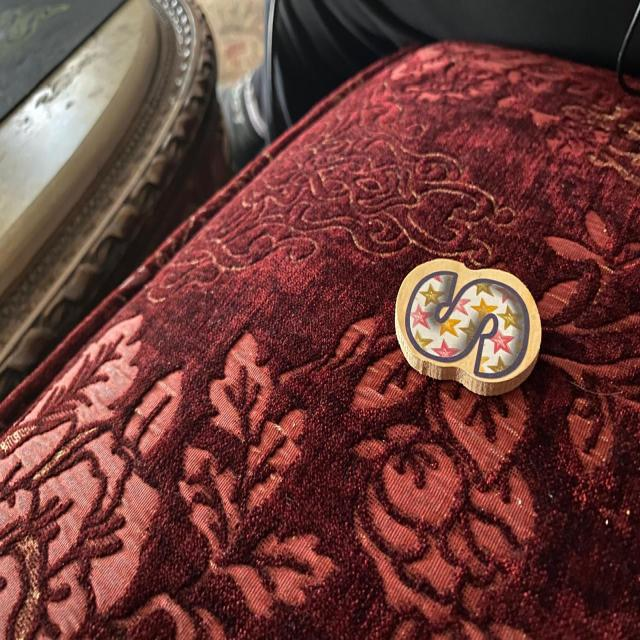S: (395, 259, 540, 394)
